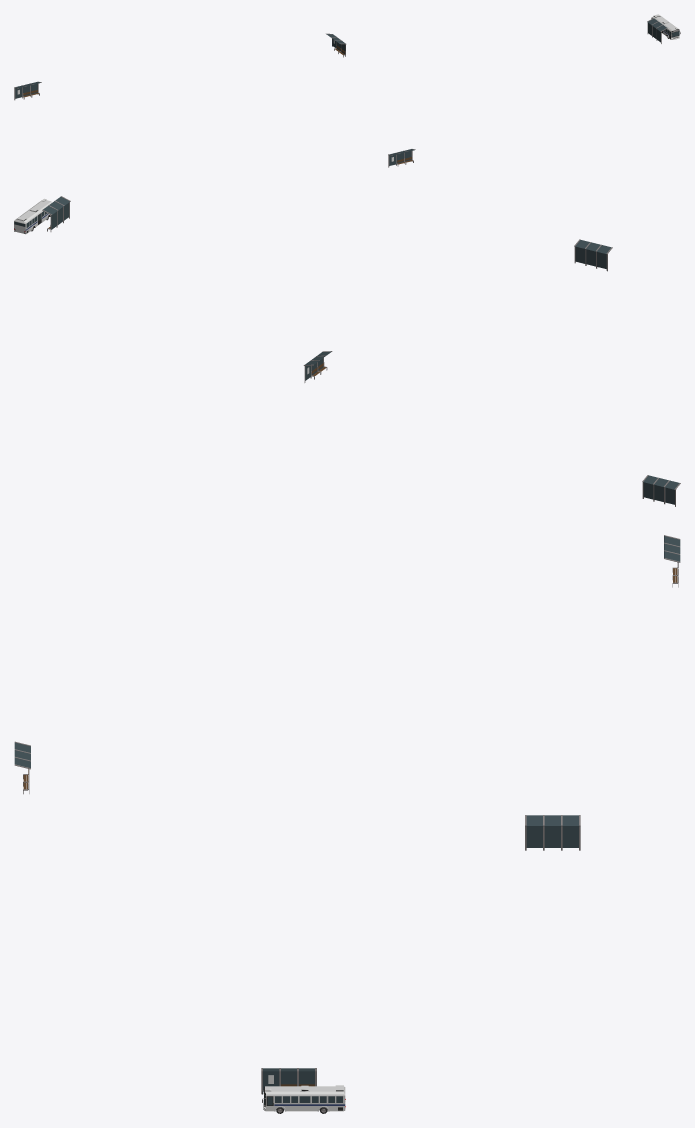
File: bus-stops.glb
3 views of the same model, one above another, from view 1: azimuth 30°, elevation 25°; view 2: azimuth 150°, elevation 25°; view 3: azimuth 270°, elevation 25° (orthographic). The views are drawn at different scales.
Parts seen in each view (by area): view 1: bus-stop.006, bus-stop.004, bus-passenger-base, bus-stop.005; view 2: bus-stop.004, bus-stop.006, bus-passenger-base, bus-stop.005; view 3: bus-passenger-base, bus-stop.007, bus-stop.005.
Boxes of the visible parts, x1,y1,x2,y2 form: bus-stop.006: (14,81,41,100); bus-stop.004: (388,149,415,167); bus-passenger-base: (651,14,680,39); bus-stop.005: (647,18,667,43); bus-stop.004: (574,239,612,271); bus-stop.006: (642,475,680,506); bus-passenger-base: (14,198,52,234); bus-stop.005: (42,196,70,231); bus-passenger-base: (262,1085,345,1111); bus-stop.007: (525,815,580,850); bus-stop.005: (261,1068,316,1094).
Size of the model in its own units: 175 by 4.55 by 89.59.
